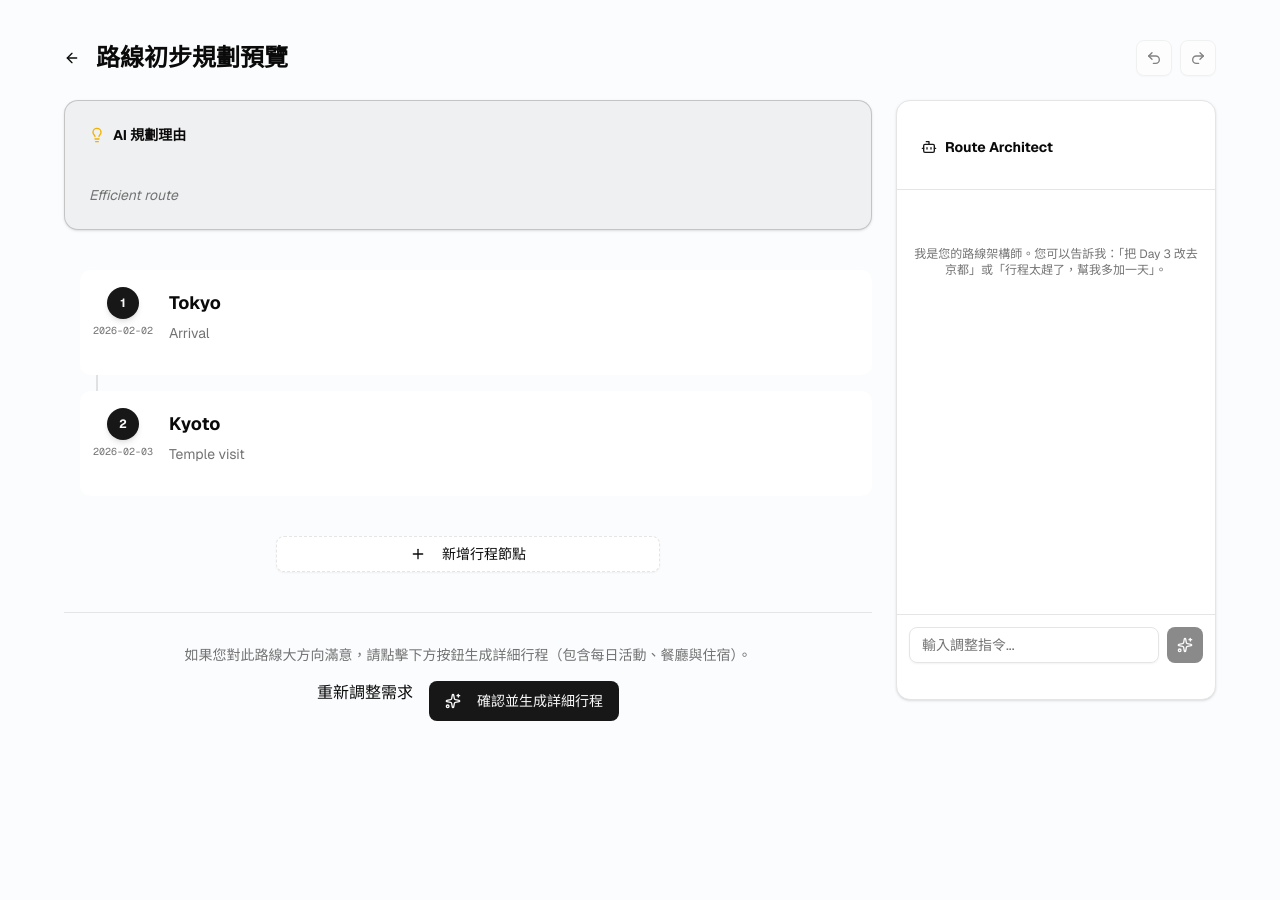
Test: RouteEditor handles adding a node
This screenshot has width=1280, height=900.
Note: Open dialog
Click the button "新增行程節點" at (468, 554), box [276,536,660,572]
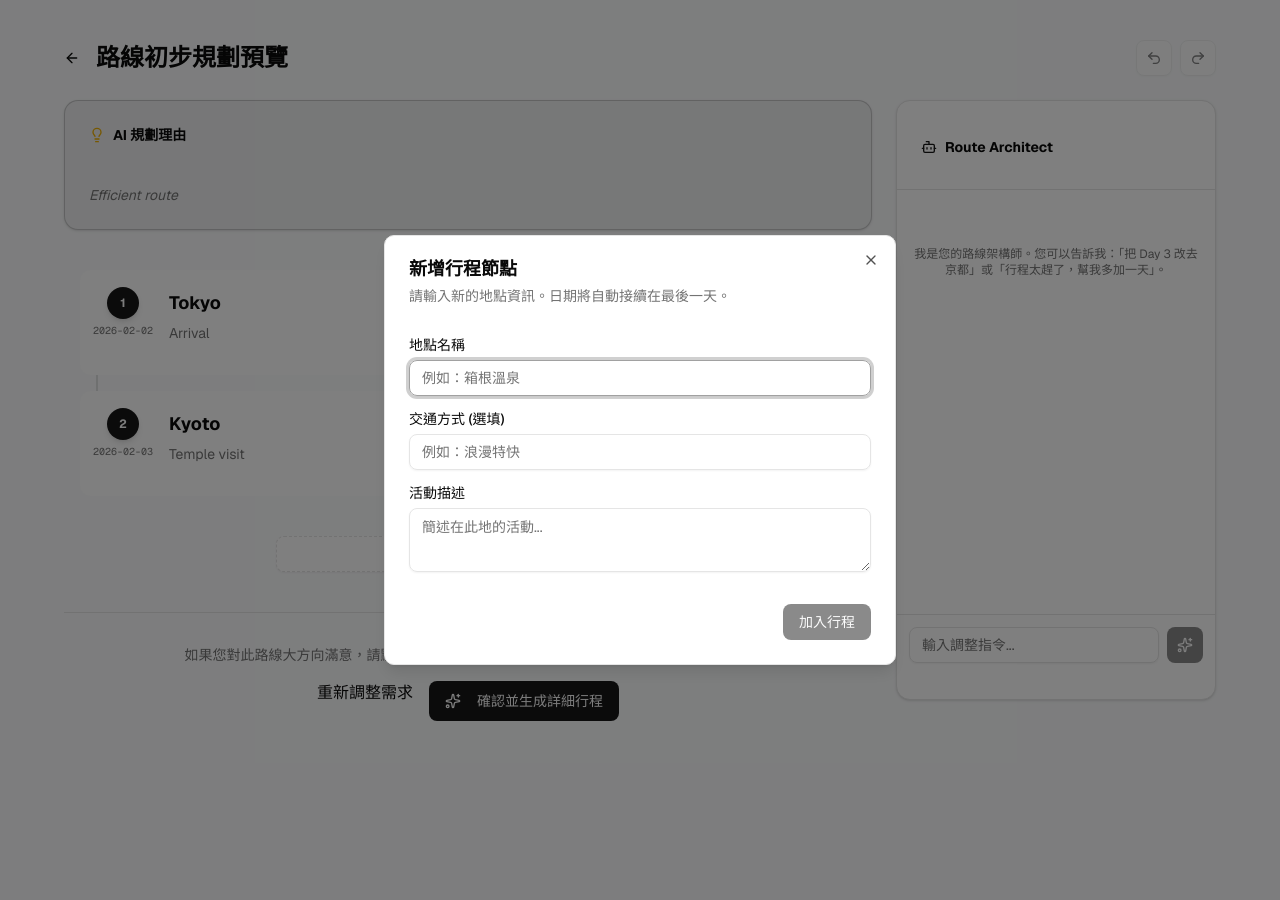
Note: Fill form
Type "Osaka" into the field labelled "地點名稱" at (640, 378), box [409,360,871,396]
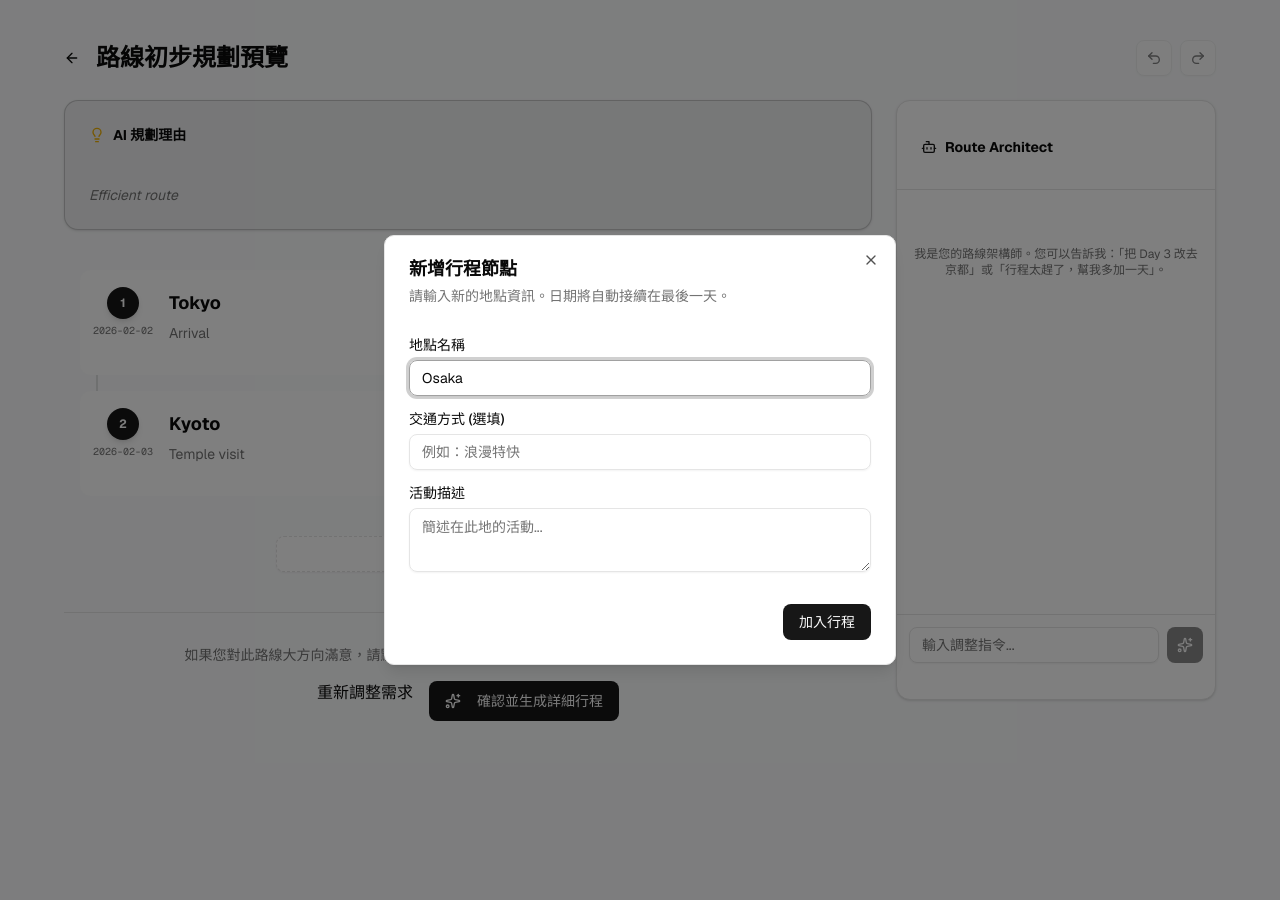
Click the button "加入行程" at (827, 622), box [783,604,871,640]
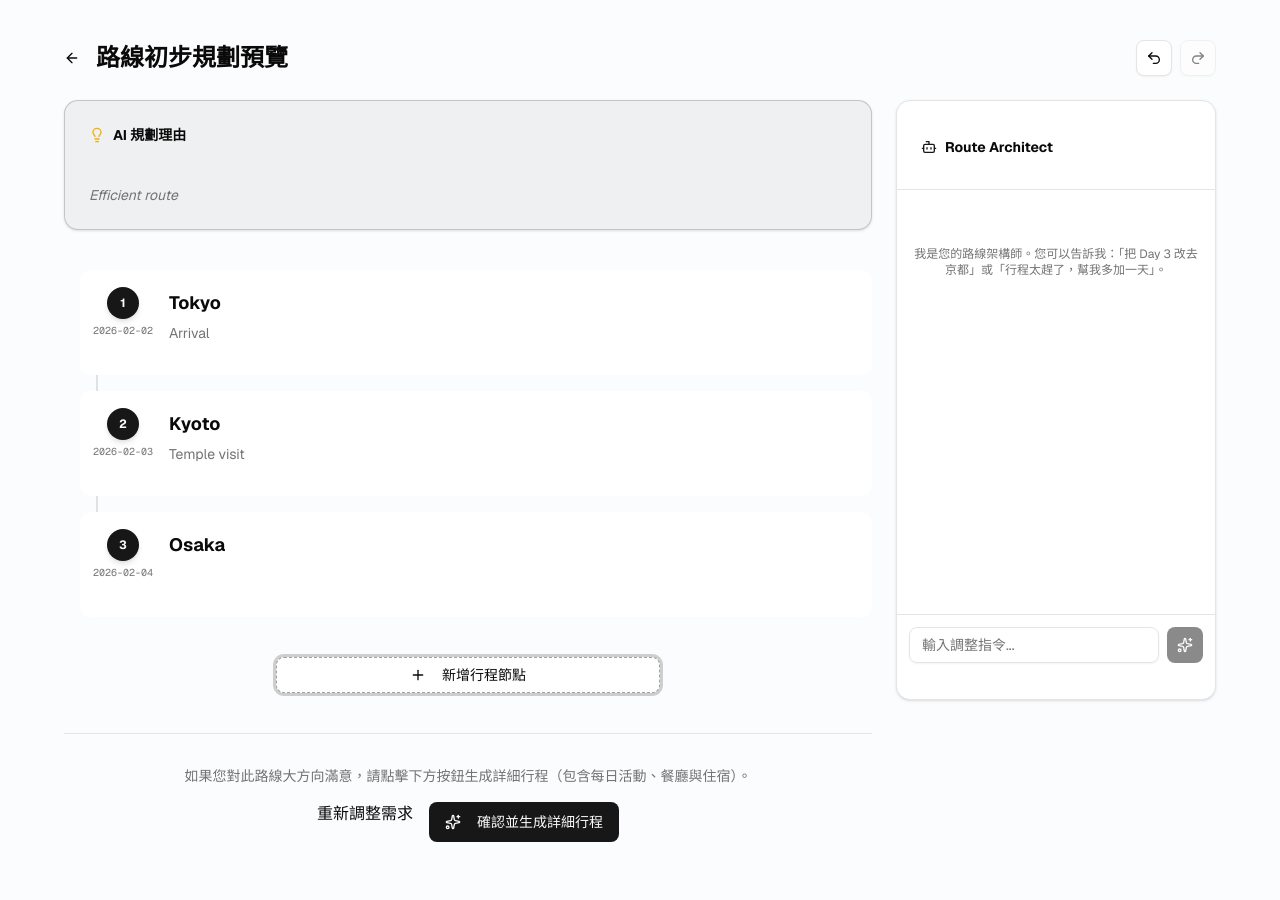
Now the heading "Osaka" is shown, box [169,531,225,559]
